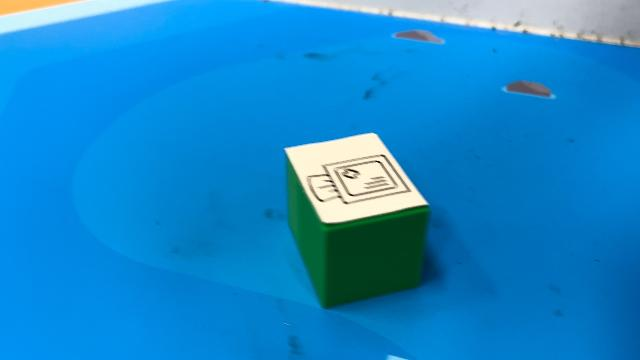napkin: (282, 129, 432, 308)
